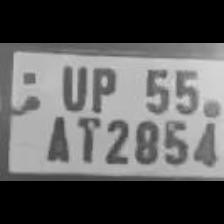2: (100, 114, 130, 166)
4: (189, 114, 219, 168)
5: (138, 65, 172, 113), (158, 114, 188, 166), (168, 66, 200, 114)
8: (130, 114, 158, 166)
A: (39, 110, 71, 162)
P: (86, 64, 118, 112)
T: (71, 114, 99, 162)
U: (56, 60, 88, 110)
